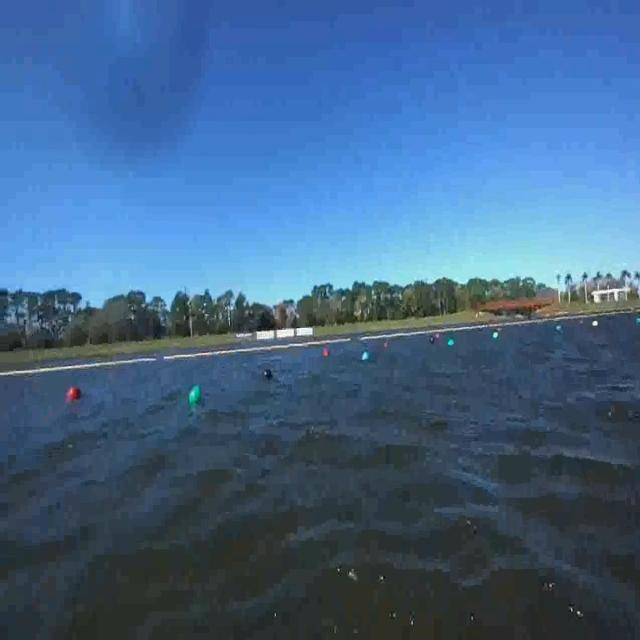black-buoy: (266, 368, 274, 378)
green-buoy: (191, 383, 203, 402), (448, 339, 456, 348)
red-buoy: (68, 385, 83, 400)
